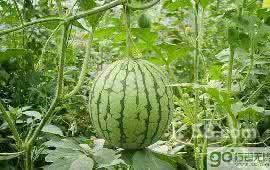watermelon: (92, 55, 172, 151)
